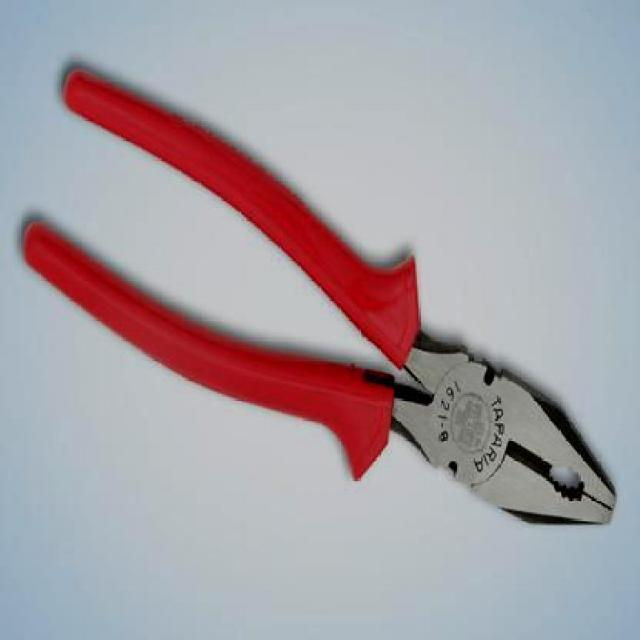pliers: (19, 61, 613, 548)
